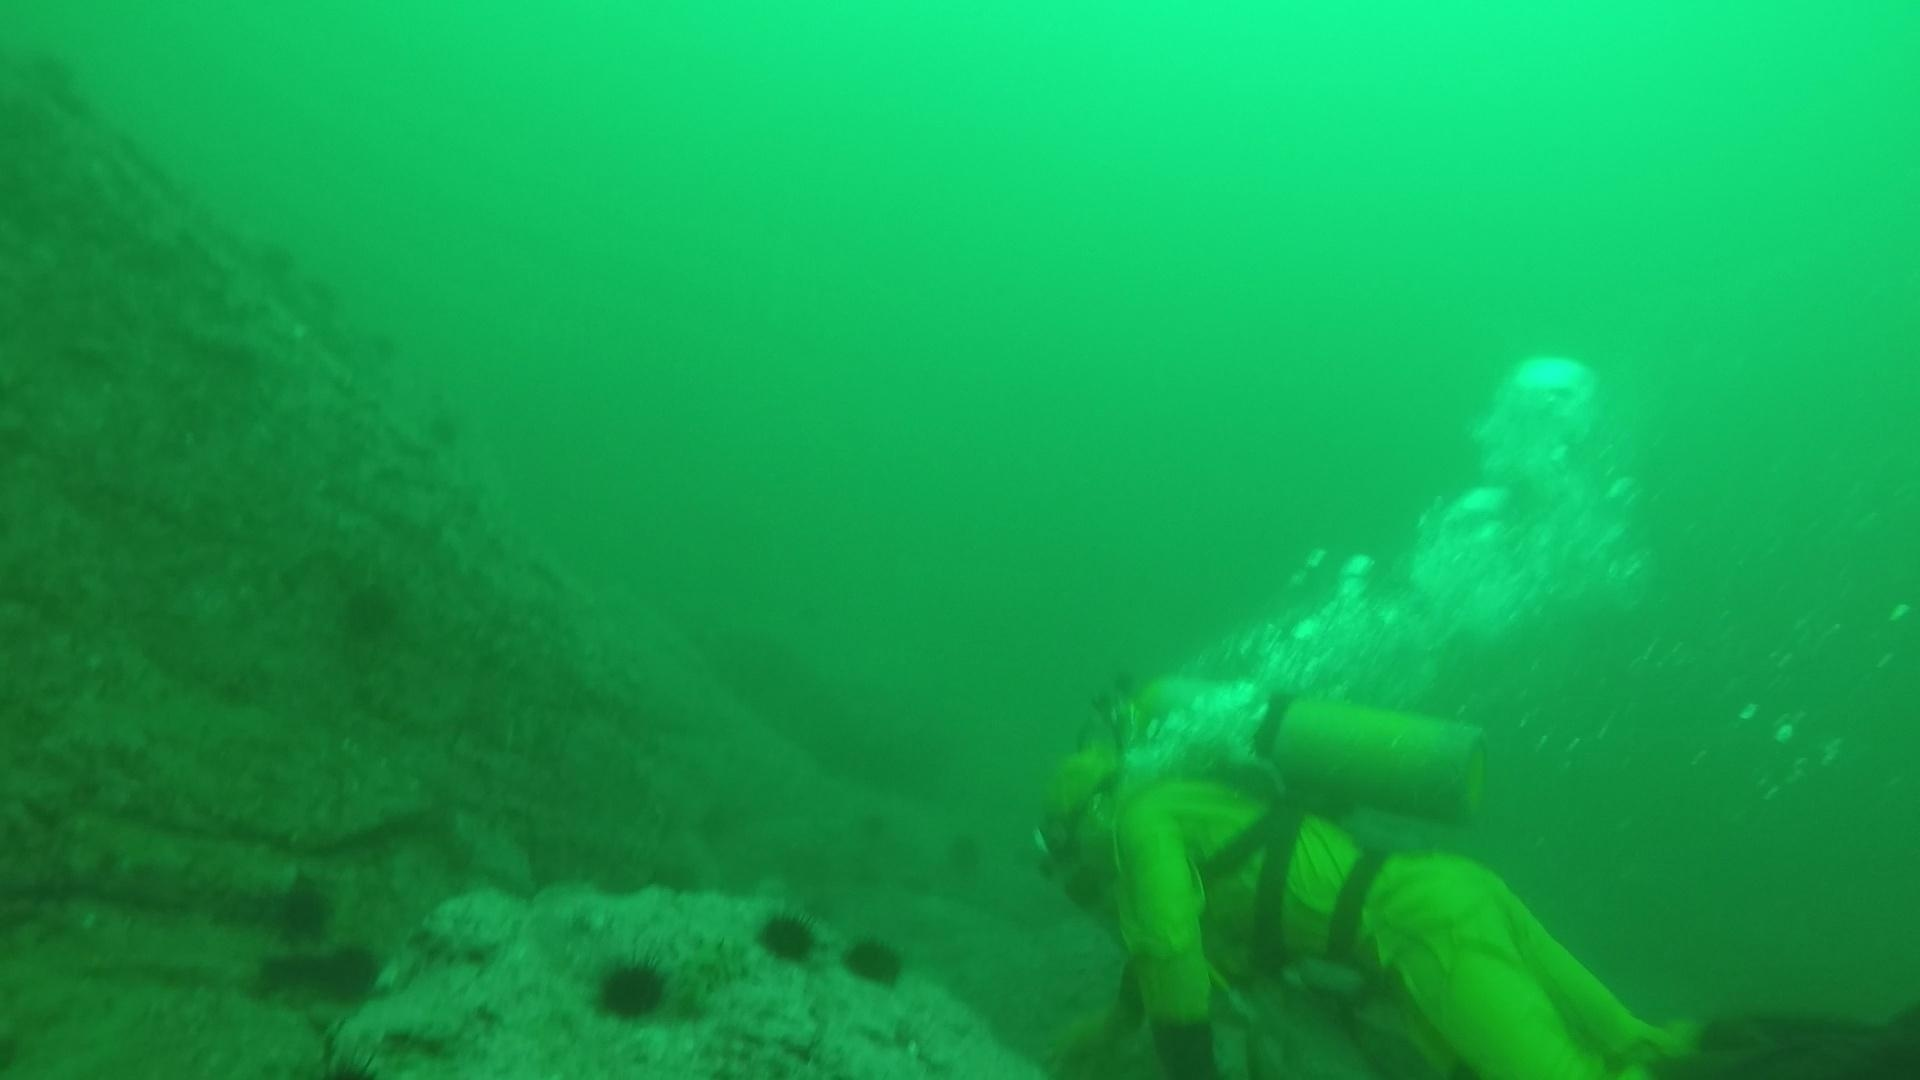echinus: (277, 934, 392, 1011), (585, 949, 680, 1029), (266, 872, 342, 947), (327, 568, 404, 641), (750, 903, 824, 971), (837, 928, 913, 993), (417, 407, 465, 452), (293, 276, 342, 320), (344, 327, 393, 371), (245, 241, 294, 285), (855, 804, 903, 848), (938, 836, 986, 880)
